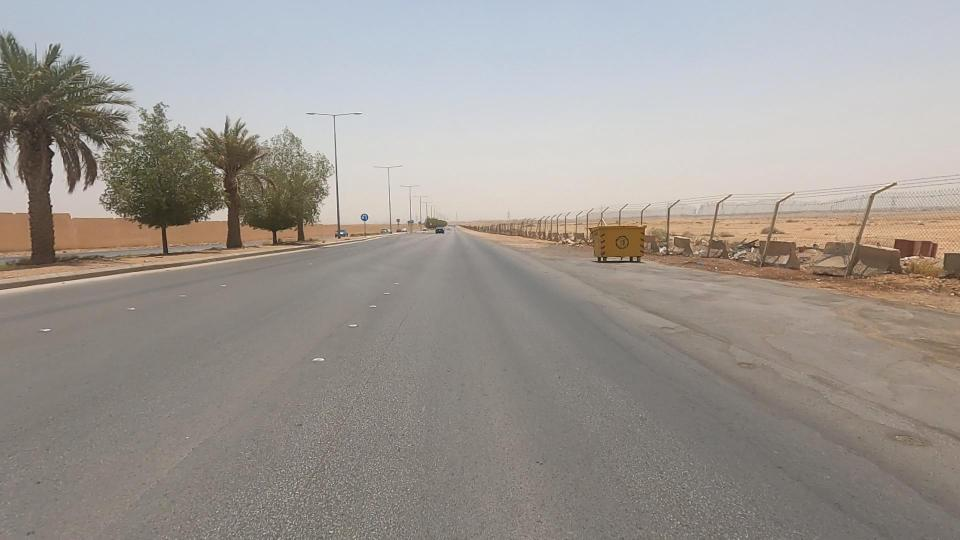GARBAGE: (627, 226, 692, 271), (678, 244, 739, 283)
